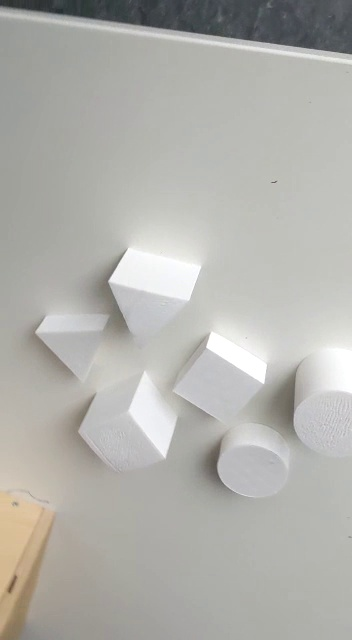Clyinder_short: (211, 420, 291, 500)
Cube: (78, 369, 180, 477)
Cube_short: (165, 328, 270, 426)
Cylinder: (288, 345, 352, 458)
Triangle: (102, 242, 204, 348)
Triangle_short: (31, 308, 113, 387)
